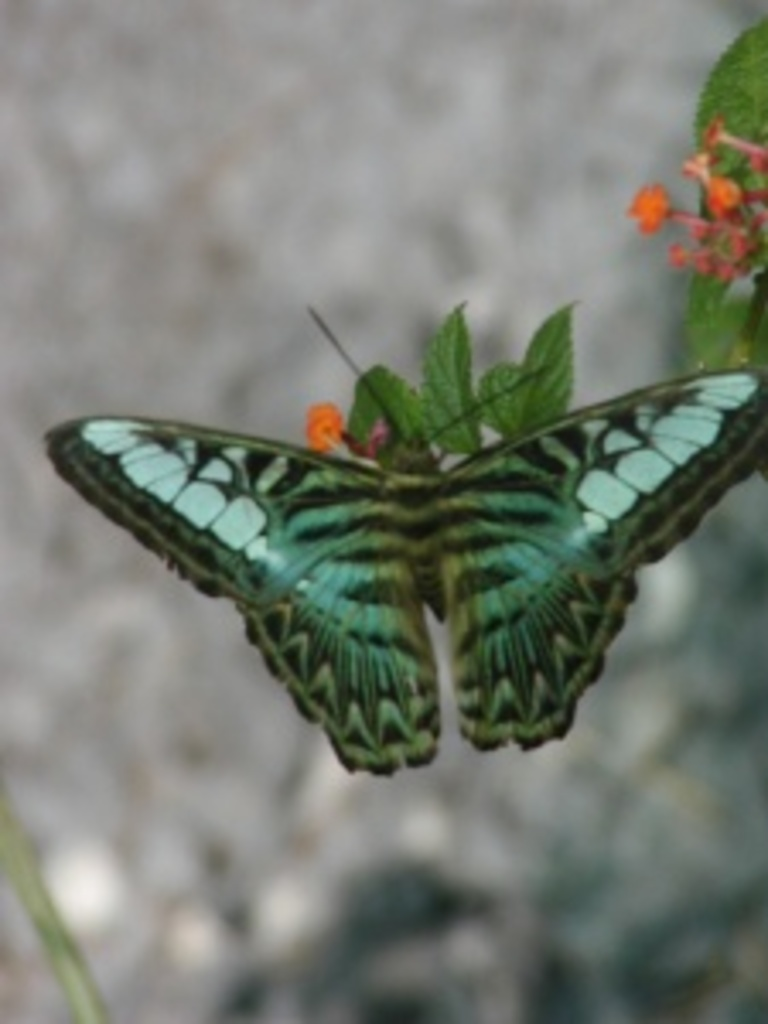Butterfly: (44, 370, 764, 779)
